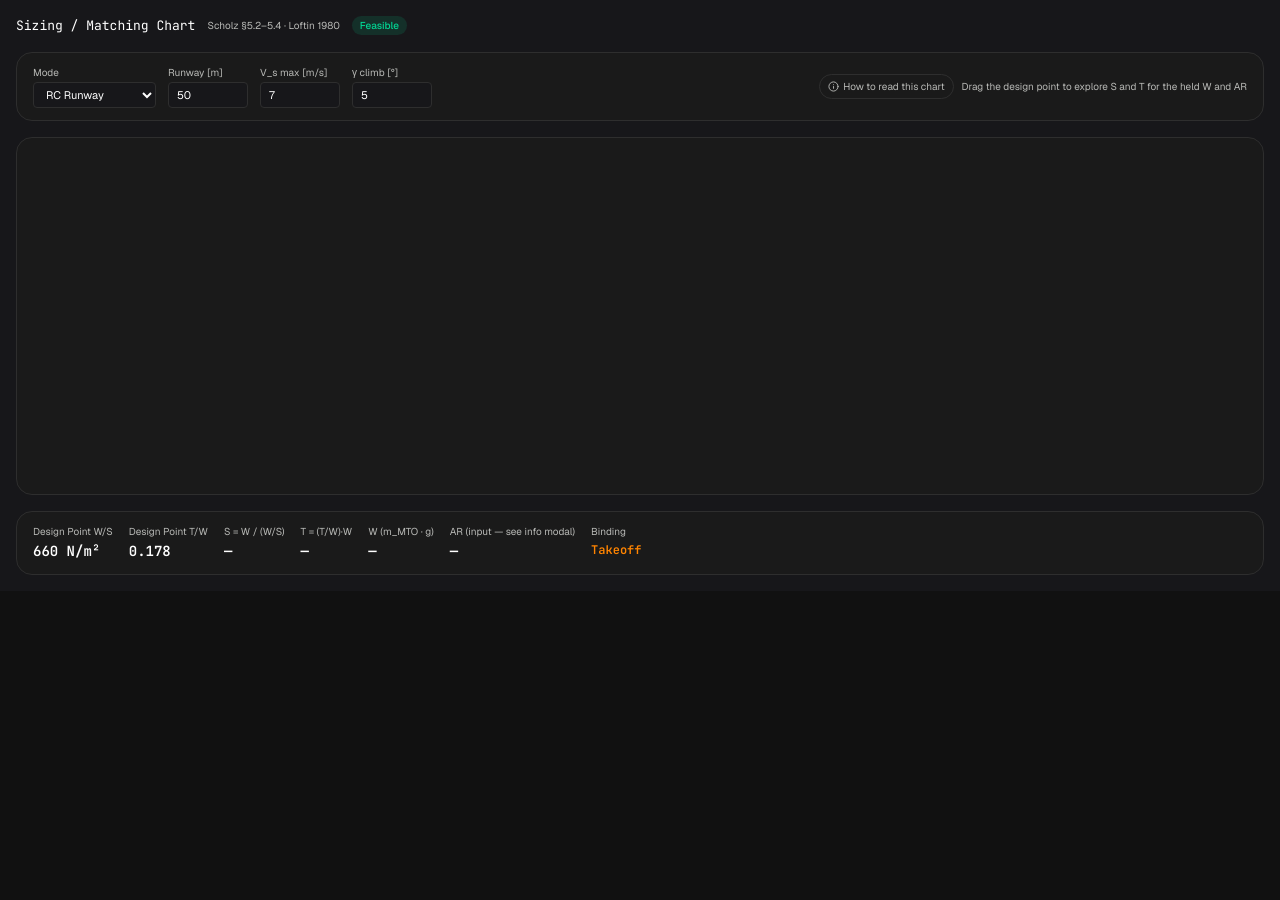
Test: MatchingChartTab — info modal (gh-606) › modal y-axis section names T_TO/W_TO and the static-thrust proxy
Click the button with test id "info-modal-trigger".
click(886, 86)  # box [819,74,954,99]
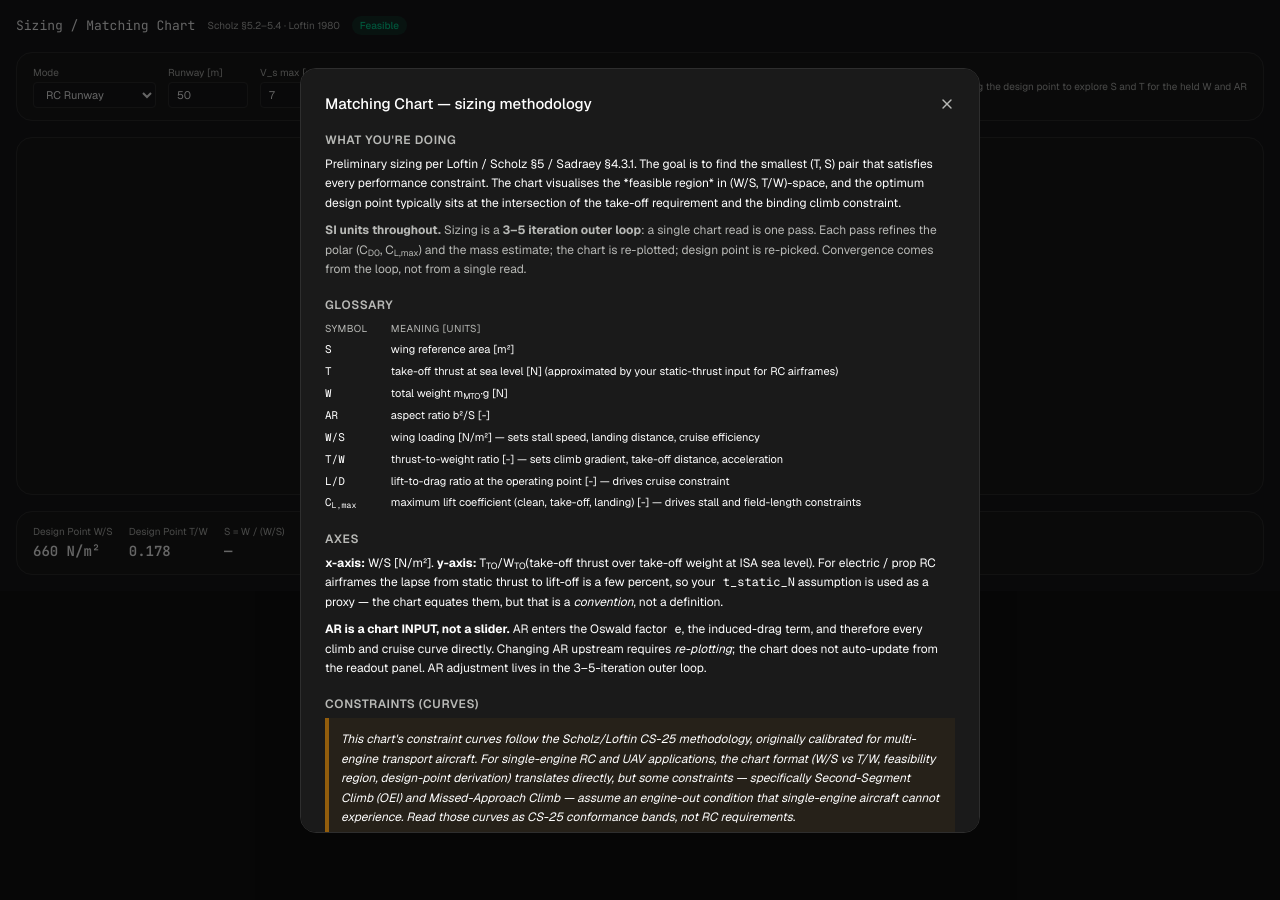
Expected: the element with test id "info-section-axes" shows "TTO/WTO", [325,530,955,679]
Expected: the element with test id "info-section-axes" shows "take-off thrust over take-off weight", [325,555,936,590]
Expected: the element with test id "info-section-axes" shows "proxy", [325,574,929,610]
